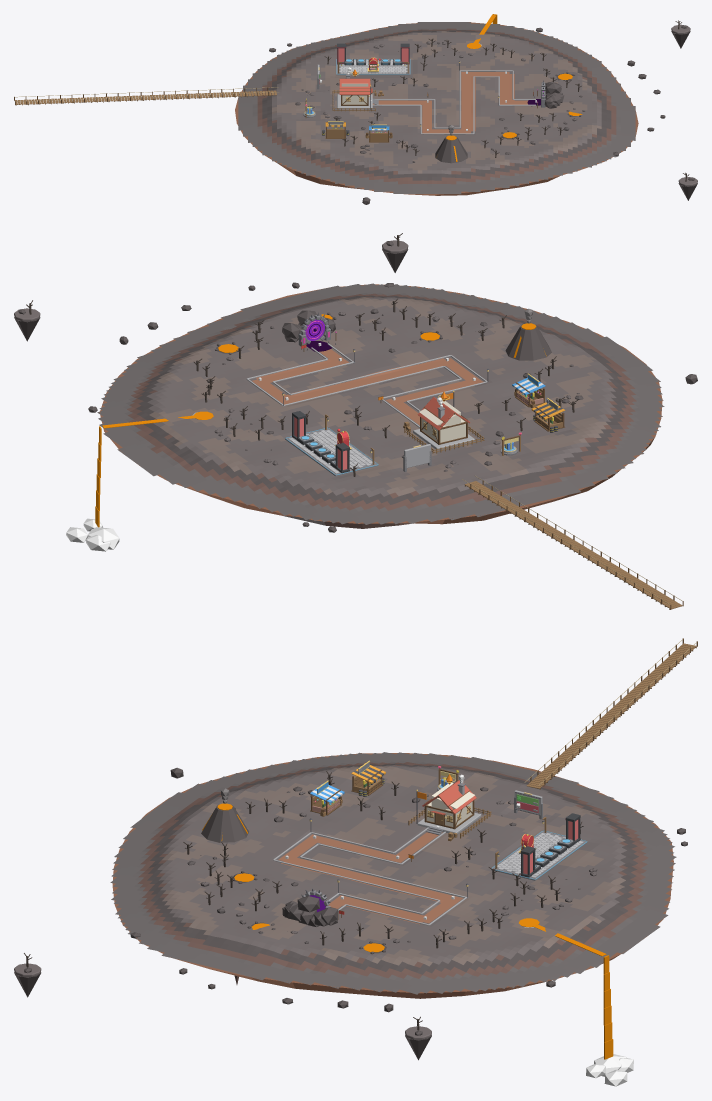
The model's file is Isla5_Volcan.glb.
The picture shows the model from 3 angles, top to bottom: view 1: azimuth 30°, elevation 25°; view 2: azimuth 150°, elevation 25°; view 3: azimuth 270°, elevation 25°; orthographic projection. The views are drawn at different scales.
Visible parts, largest first — view 1: Isla5_Volcan_Terreno, Puente_5, Isla5_Volcan_Base_Flotante, Isla5_Volcan_Casa, Isla5_Volcan_Detalles, Isla5_Volcan_Palanca_Zona, Isla5_Volcan_Bordes, Isla5_Volcan_Arboles, Isla5_Volcan_Monumento, Isla5_Volcan_Rocas, Isla5_Volcan_Portal, Isla5_Volcan_Tienda_Puesto (+1 smaller); view 2: Isla5_Volcan_Terreno, Isla5_Volcan_Detalles, Puente_5, Isla5_Volcan_Base_Flotante, Isla5_Volcan_Casa, Isla5_Volcan_Palanca_Zona, Isla5_Volcan_Bordes, Isla5_Volcan_Arboles, Isla5_Volcan_Portal, Isla5_Volcan_Monumento, Isla5_Volcan_Rocas, Isla5_Volcan_Equipamientos_Puesto (+2 smaller); view 3: Isla5_Volcan_Terreno, Isla5_Volcan_Detalles, Puente_5, Isla5_Volcan_Base_Flotante, Isla5_Volcan_Casa, Isla5_Volcan_Palanca_Zona, Isla5_Volcan_Bordes, Isla5_Volcan_Arboles, Isla5_Volcan_Portal, Isla5_Volcan_Monumento, Isla5_Volcan_Rocas, Isla5_Volcan_Equipamientos_Puesto (+1 smaller).
Part boxes in pixels (box(x1,y1,x2,y2)): Isla5_Volcan_Terreno: box(238, 22, 635, 194); Puente_5: box(14, 87, 278, 105); Isla5_Volcan_Base_Flotante: box(235, 22, 638, 195); Isla5_Volcan_Casa: box(332, 67, 378, 111); Isla5_Volcan_Detalles: box(374, 14, 697, 200); Isla5_Volcan_Palanca_Zona: box(336, 43, 410, 75); Isla5_Volcan_Bordes: box(372, 61, 535, 134); Isla5_Volcan_Arboles: box(324, 38, 581, 157); Isla5_Volcan_Monumento: box(435, 125, 467, 163); Isla5_Volcan_Rocas: box(269, 27, 665, 204); Isla5_Volcan_Portal: box(527, 80, 564, 108); Isla5_Volcan_Tienda_Puesto: box(365, 124, 392, 142); Isla5_Volcan_Terreno: box(97, 283, 664, 524); Isla5_Volcan_Detalles: box(14, 233, 442, 551); Puente_5: box(462, 476, 683, 609); Isla5_Volcan_Base_Flotante: box(99, 284, 662, 528); Isla5_Volcan_Casa: box(404, 391, 484, 453); Isla5_Volcan_Palanca_Zona: box(285, 411, 378, 476); Isla5_Volcan_Bordes: box(246, 343, 489, 427); Isla5_Volcan_Arboles: box(194, 298, 577, 476); Isla5_Volcan_Portal: box(282, 310, 336, 351); Isla5_Volcan_Monumento: box(505, 308, 551, 360); Isla5_Volcan_Rocas: box(88, 282, 697, 532); Isla5_Volcan_Equipamientos_Puesto: box(531, 398, 565, 432); Isla5_Volcan_Terreno: box(110, 752, 676, 994); Isla5_Volcan_Detalles: box(14, 832, 633, 1086); Puente_5: box(524, 638, 697, 789); Isla5_Volcan_Base_Flotante: box(112, 753, 673, 998); Isla5_Volcan_Casa: box(408, 774, 491, 838); Isla5_Volcan_Palanca_Zona: box(491, 813, 587, 880); Isla5_Volcan_Bordes: box(273, 818, 468, 925); Isla5_Volcan_Arboles: box(183, 771, 583, 948); Isla5_Volcan_Portal: box(282, 888, 338, 927); Isla5_Volcan_Monumento: box(201, 788, 248, 842); Isla5_Volcan_Rocas: box(130, 767, 687, 1012); Isla5_Volcan_Equipamientos_Puesto: box(351, 760, 385, 796).
Bounding box in the file's own units: 232 × 45.58 × 167.
Materials: 1 (1 with a texture image).
